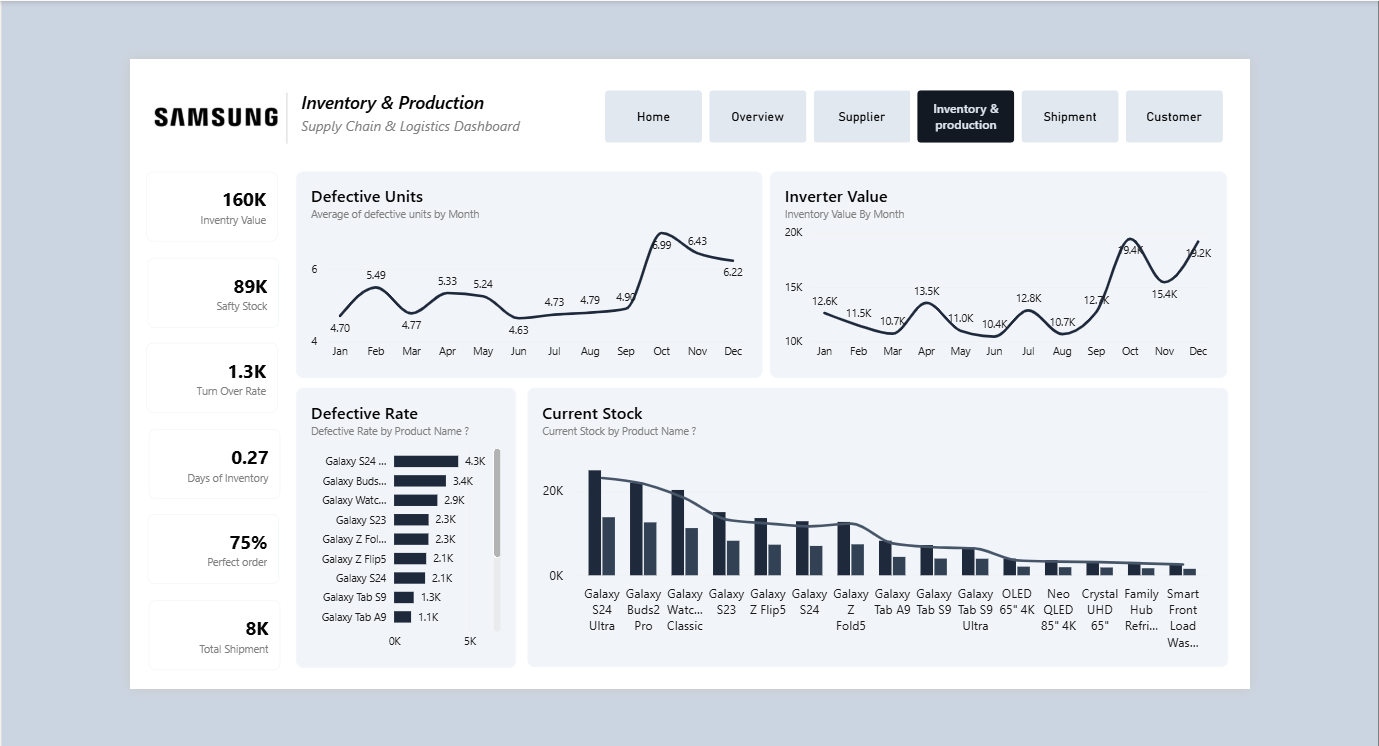

Layout of this report page (visuals, bound fields, positions):
{"tool":"powerbi","page":{"name":"Inventory & production","canvas":[1280,720],"ordinal":3},"visuals":[{"type":"image","box":[16.5,36.9,156,58],"z":0},{"type":"shape","title":"Inventory & Production","box":[196.4,36.4,263.6,62.7],"z":1000},{"type":"shape","box":[159.1,38.9,41.3,58],"z":2000},{"type":"cardVisual","fields":{"Data":["Measure Table.Safty Stock"]},"box":[20,226.5,150,80],"z":3000},{"type":"cardVisual","fields":{"Data":["Measure Table.Turn Over Rate"]},"box":[19.2,324.5,150,80],"z":4000},{"type":"cardVisual","fields":{"Data":["Measure Table.Days_of_Inventory"]},"box":[20.8,422.4,150,80],"z":5000},{"type":"cardVisual","fields":{"Data":["Measure Table.Total Shipment"]},"box":[21.7,618.3,150,80],"z":6000},{"type":"cardVisual","fields":{"Data":["Measure Table.Perfect_order"]},"box":[20,520.4,150,80],"z":7000},{"type":"cardVisual","fields":{"Data":["Measure Table.Inventry Value"]},"box":[18.6,128.6,150,80],"z":8000},{"type":"barChart","title":"Defective  Rate","fields":{"Y":["Measure Table.Defect_Rate"],"Category":["dim_product.product_name"]},"box":[189.4,375.2,250.9,319.7],"z":9000},{"type":"pageNavigator","box":[542.9,35.7,711.4,60],"z":10000},{"type":"lineClusteredColumnComboChart","title":"Current Stock","fields":{"Category":["dim_product.product_name"],"Y":["Measure Table.Inventry Value","Measure Table.Safty Stock"],"Y2":["Sum(fact_inventory.reorder_point)"]},"box":[454,375.3,800.7,319.3],"z":11000},{"type":"lineChart","title":" Defective Units","fields":{"Category":["dim_date.Month_sort"],"Y":["Avg(fact_production.defective_units)"]},"box":[189.3,128.7,532.7,236],"z":12000},{"type":"lineChart","title":"Inverter Value","fields":{"Category":["dim_date.Month_sort"],"Y":["Measure Table.Inventry Value"]},"box":[732,128.7,522,236],"z":13000}]}

Visuals, with their boxes on the page's 1280x720 design canvas (x1, y1, x2, y2). These are canvas units, not pixel positions in the 1379x746 screenshot, which may show the page scaled, cropped or inside an application window:
image: (16,37,172,95)
"Inventory & Production" shape: (196,36,460,99)
shape: (159,39,200,97)
cardVisual - Measure Table.Safty Stock: (20,226,170,306)
cardVisual - Measure Table.Turn Over Rate: (19,324,169,404)
cardVisual - Measure Table.Days_of_Inventory: (21,422,171,502)
cardVisual - Measure Table.Total Shipment: (22,618,172,698)
cardVisual - Measure Table.Perfect_order: (20,520,170,600)
cardVisual - Measure Table.Inventry Value: (19,129,169,209)
"Defective  Rate" barChart: (189,375,440,695)
pageNavigator: (543,36,1254,96)
"Current Stock" lineClusteredColumnComboChart: (454,375,1255,695)
" Defective Units" lineChart: (189,129,722,365)
"Inverter Value" lineChart: (732,129,1254,365)
